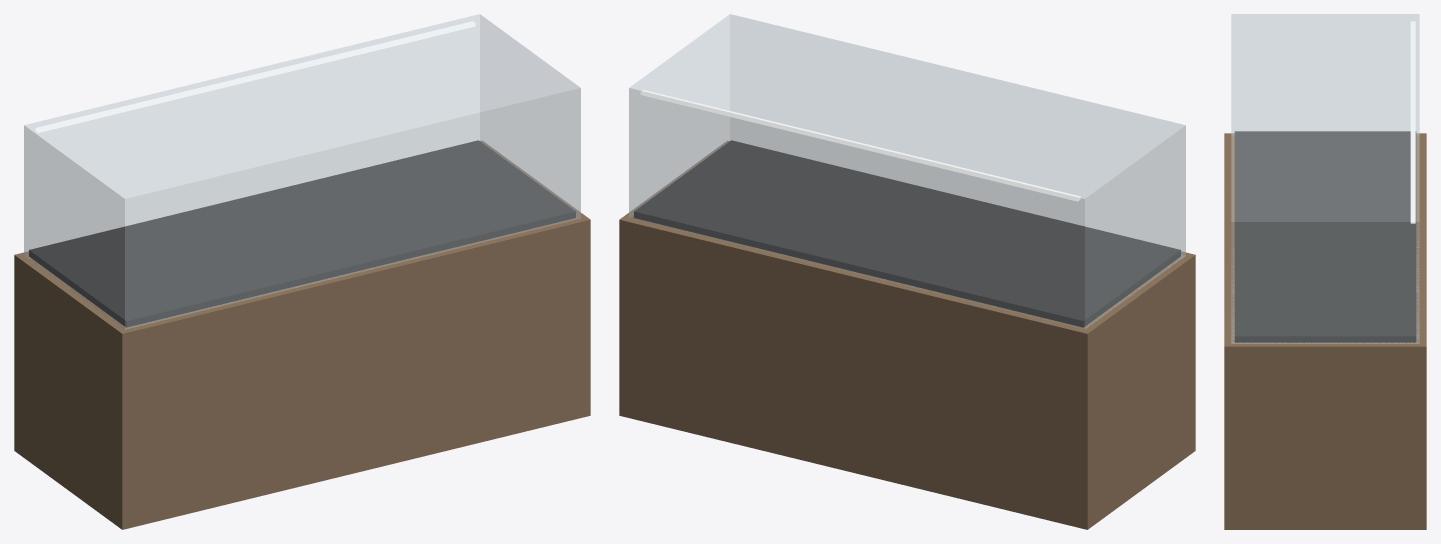
File: gen_jewelry_case.glb
The picture shows the model from 3 angles, left to right: view 1: azimuth 30°, elevation 25°; view 2: azimuth 150°, elevation 25°; view 3: azimuth 270°, elevation 25°; orthographic projection. The views are drawn at different scales.
Visible parts, largest first — view 1: gen_jewelry_case; view 2: gen_jewelry_case; view 3: gen_jewelry_case.
Boxes of the visible parts, x1,y1,x2,y2 form: gen_jewelry_case: [14, 14, 590, 529]; gen_jewelry_case: [619, 14, 1195, 529]; gen_jewelry_case: [1224, 14, 1426, 529].
Size of the model in its own units: 1.5 by 1 by 0.6.
